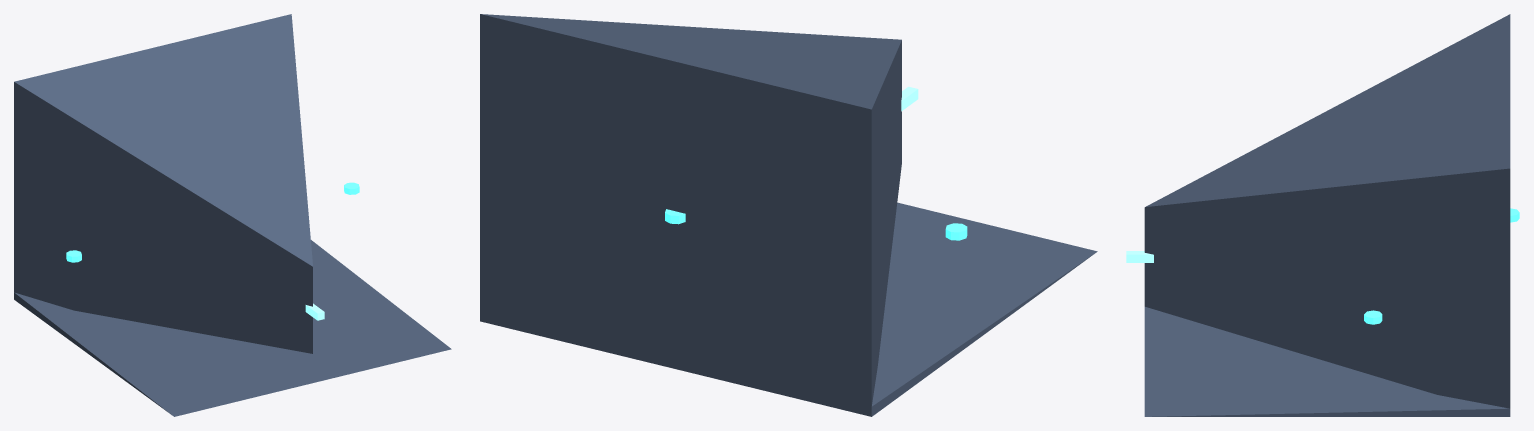
Rendered from mod_proa.fbx.
3 renders of one model, left to right at view 1: azimuth 30°, elevation 25°; view 2: azimuth 150°, elevation 25°; view 3: azimuth 270°, elevation 25°, orthographic. The views are drawn at different scales.
Visible parts, largest first — view 1: Proa; view 2: Proa, Proa_Conectores; view 3: Proa.
Part boxes in pixels (x1,y1,x2,y2): Proa: (14, 14, 451, 416); Proa: (480, 14, 1097, 416); Proa_Conectores: (665, 209, 967, 240); Proa: (1144, 14, 1510, 416).
Size of the model in its own units: 1.18 by 0.8652 by 1.2.
